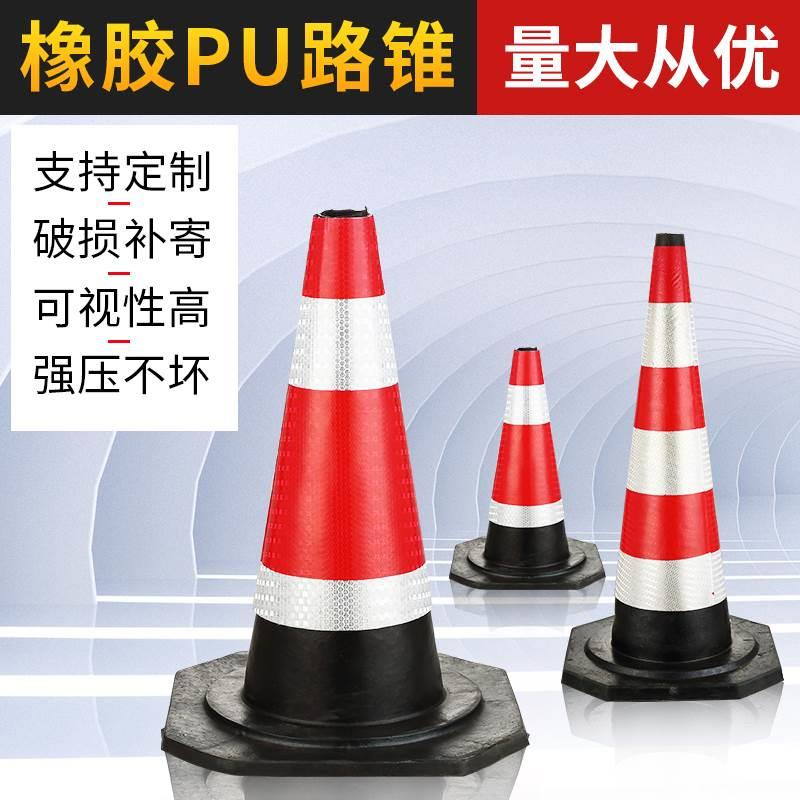traffic_cone: (179, 209, 474, 777), (554, 219, 790, 712), (454, 330, 614, 598)
